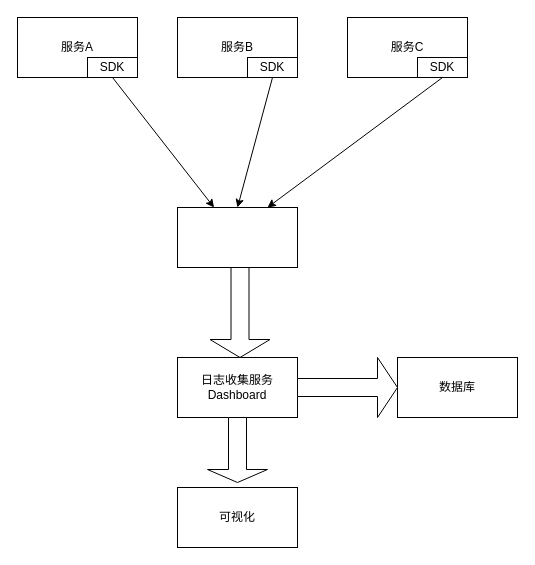
Image size: 535x565. Some labels were removed from this diagram. The shapes that lost their labels are listed below. From the top down, each one's centre as x and y in pixels, then its label:
the point at 237,237: Redis
the point at 239,312: 基于发布订阅
the point at 347,387: 批量落库存储
the point at 237,449: API查询
